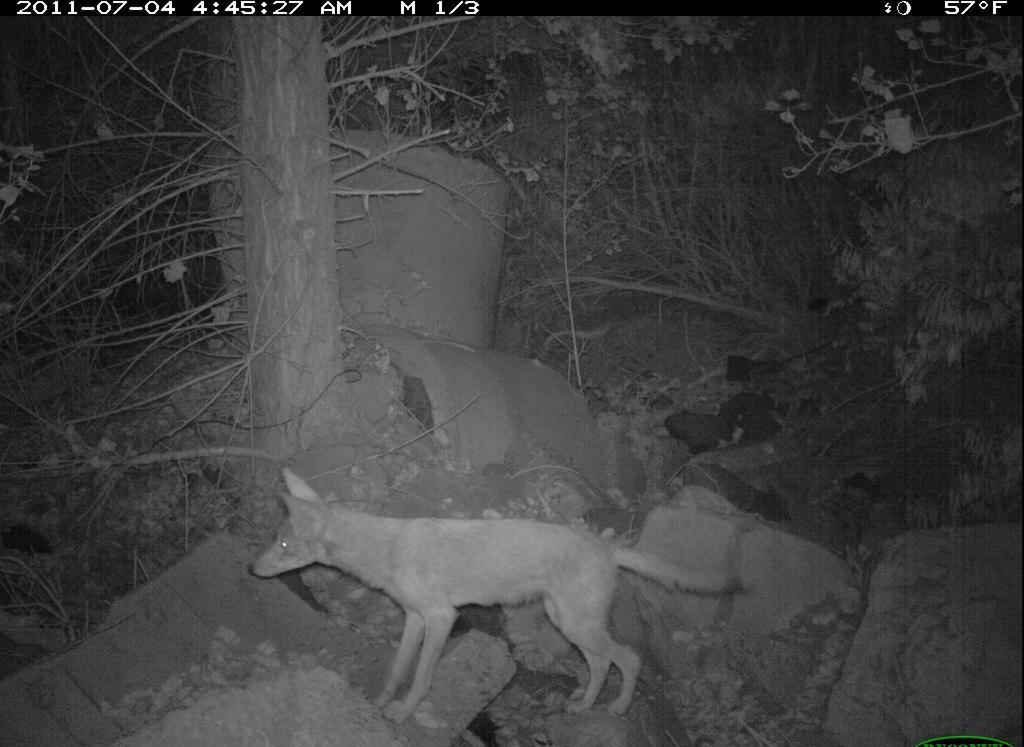coyote: (245, 461, 745, 729)
